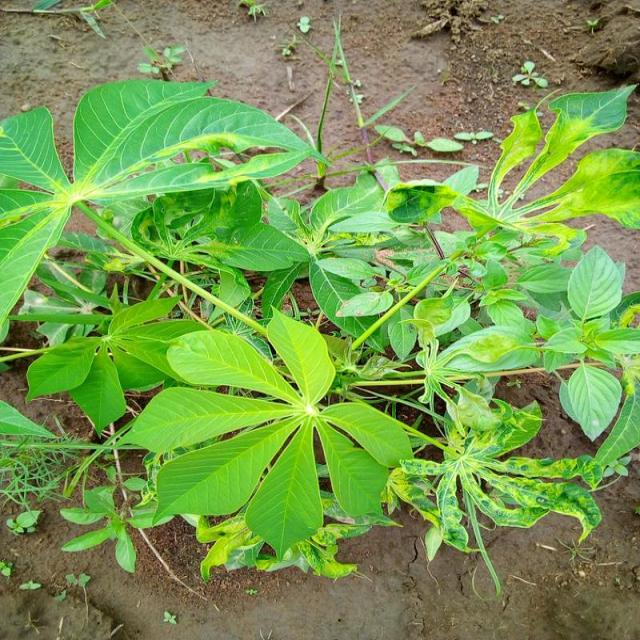cassava leaf: (1, 50, 638, 596), (122, 304, 415, 569)
